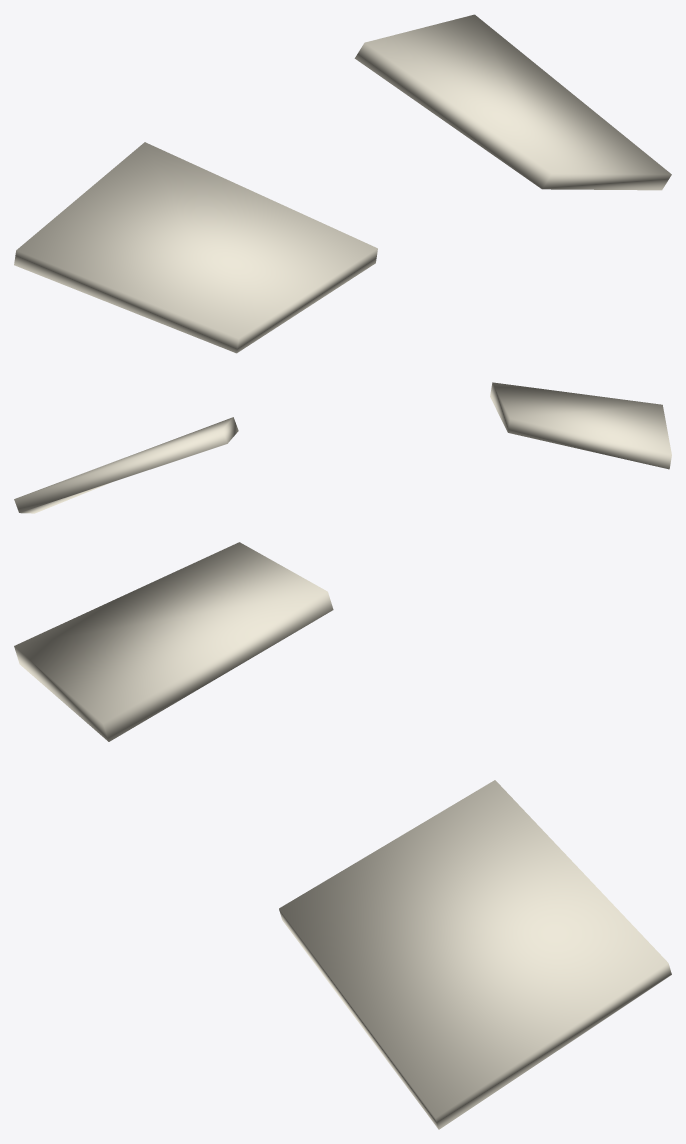
The picture shows the model from 3 angles, top to bottom: view 1: azimuth 30°, elevation 25°; view 2: azimuth 150°, elevation 25°; view 3: azimuth 270°, elevation 25°; orthographic projection. The views are drawn at different scales.
Parts seen in each view (by area): view 1: ZA_d1e2f0db5b18db0d; view 2: ZA_d1e2f0db5b18db0d; view 3: ZA_d1e2f0db5b18db0d.
Boxes of the visible parts, bbox=[...] form: ZA_d1e2f0db5b18db0d: bbox=[14, 14, 671, 353]; ZA_d1e2f0db5b18db0d: bbox=[14, 382, 671, 513]; ZA_d1e2f0db5b18db0d: bbox=[14, 542, 671, 1129].
Size of the model in its own units: 0.0223 by 0.00641 by 0.0159.
